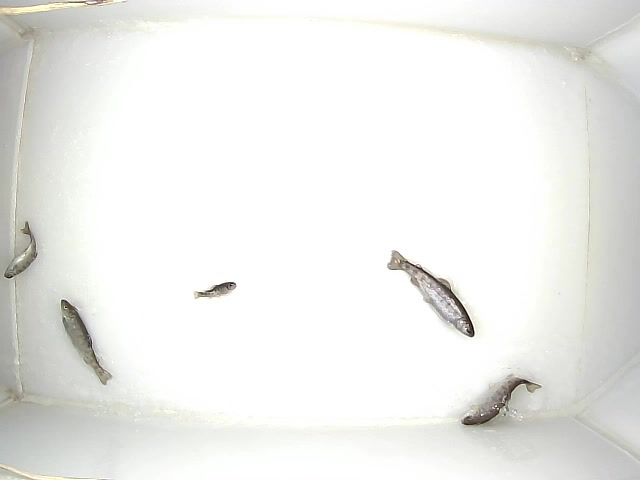fish: (387, 250, 475, 338), (60, 299, 112, 386), (461, 374, 542, 425), (3, 221, 38, 279), (194, 282, 237, 299)
